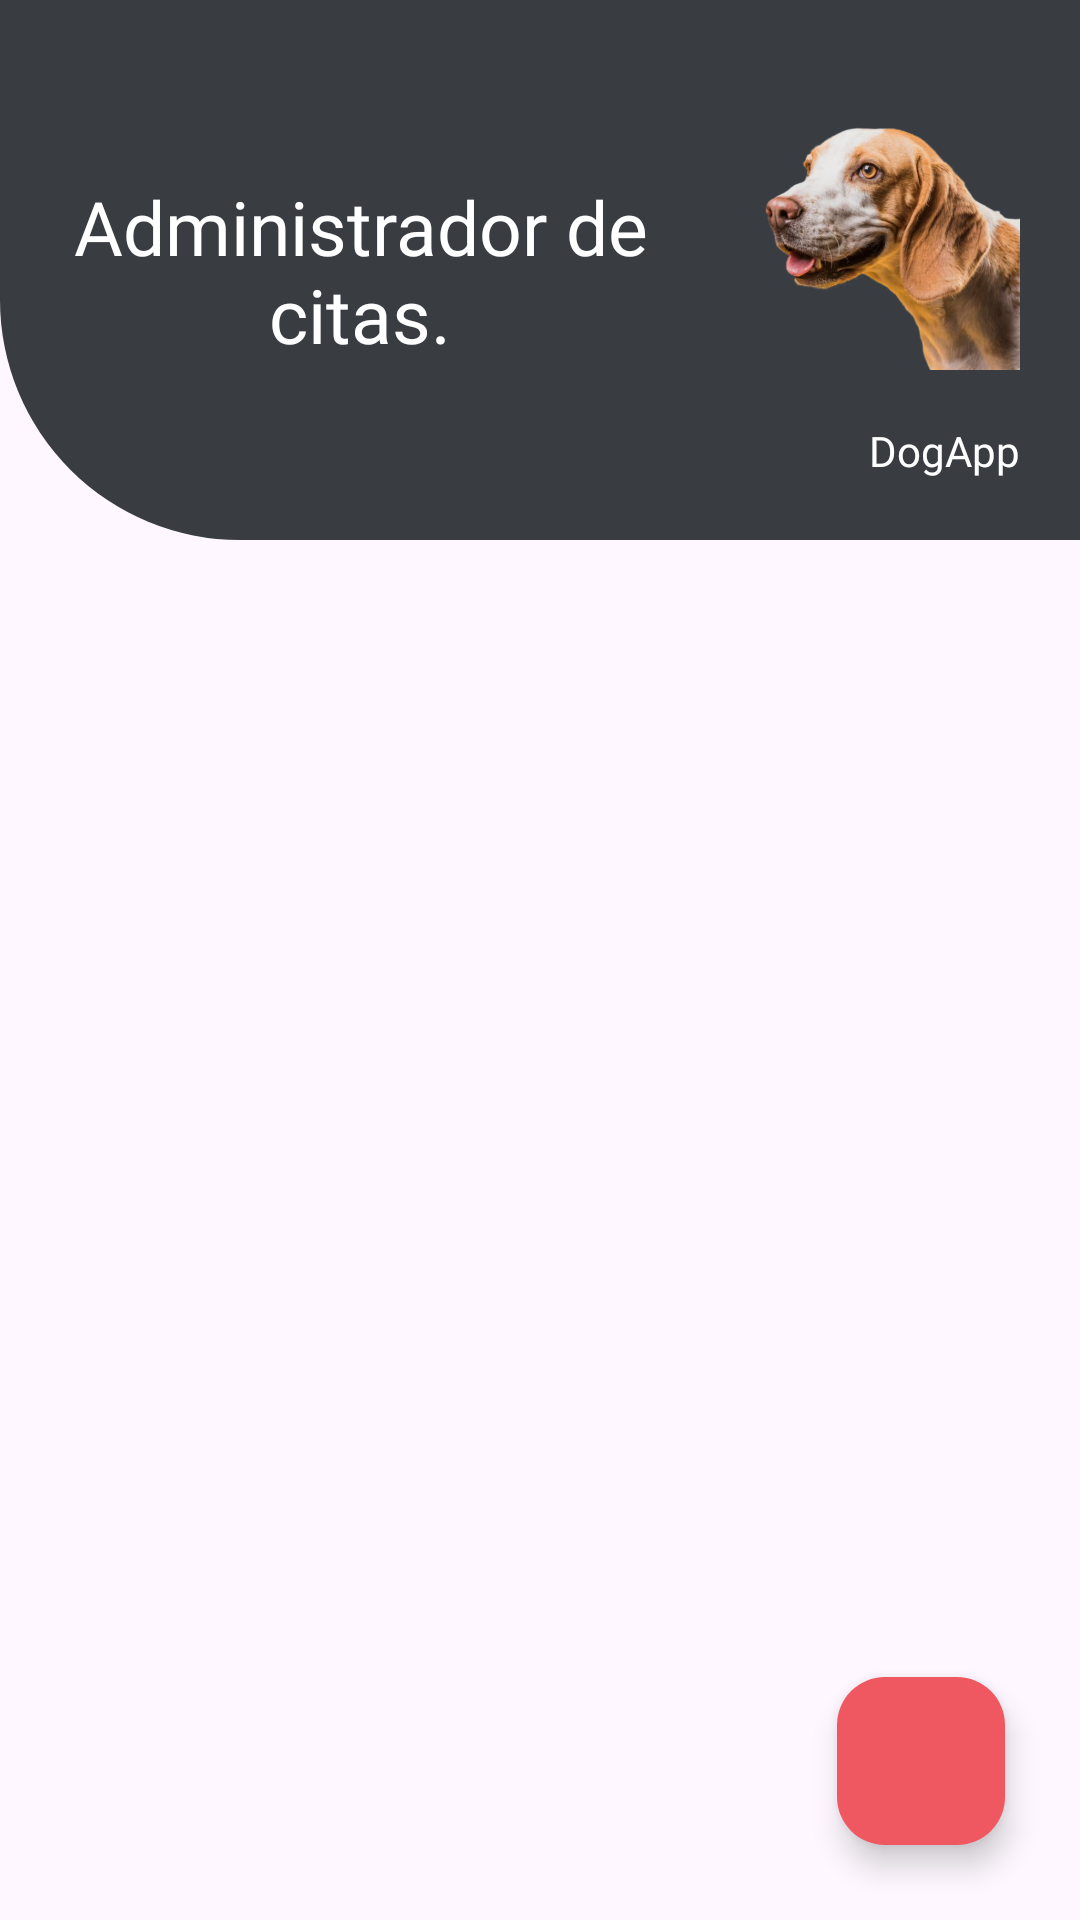

Icon click points for this 1080px x 1920px phone screenshot, format (x,y):
dog: (893,249)
